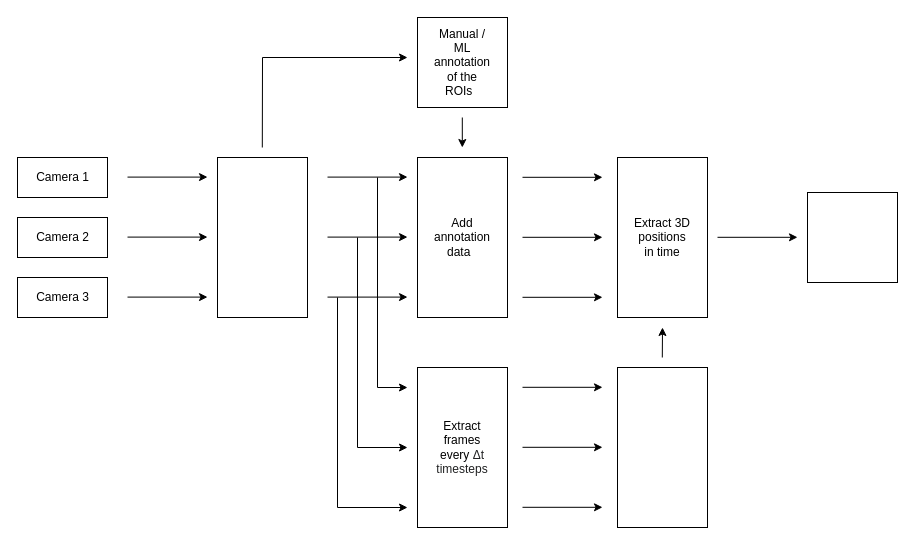
The diagram is 915 pixels wide and 545 high, and some of its shapes have lost their labels. Here are the shapes that lost their labels. From the top down, the box of each, then its label:
(216, 156, 308, 318): Sync camera streams
(806, 192, 898, 282): Write to Excel file
(616, 366, 708, 528): Create 3D maps
